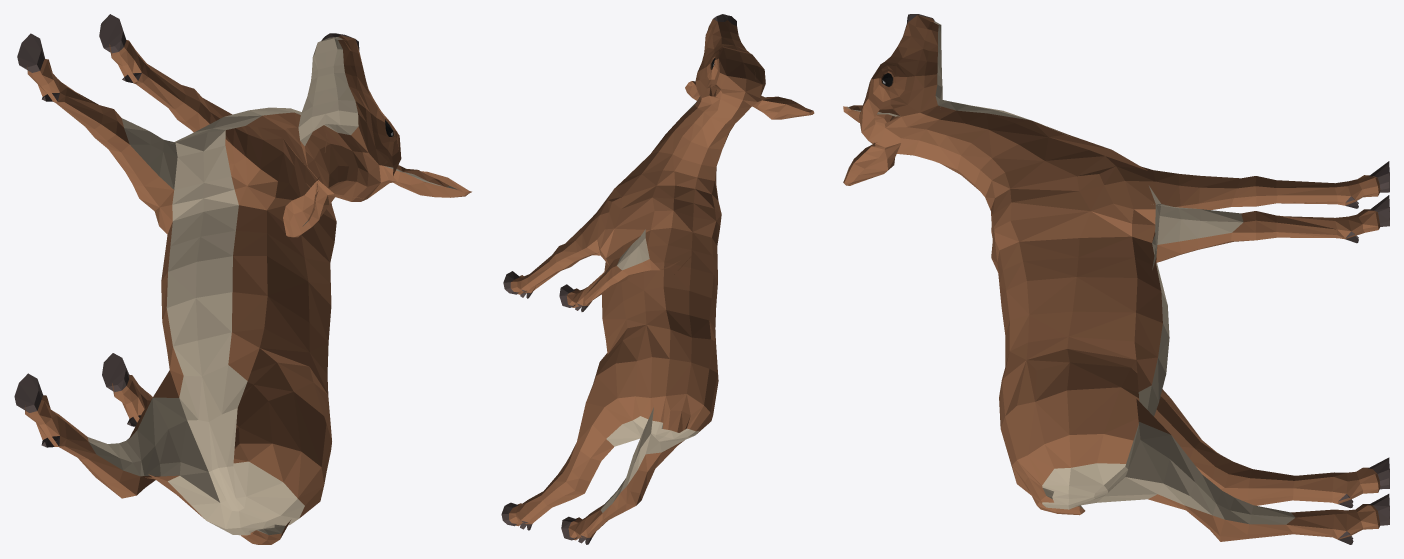
Rendered from deer-idle-0.glb.
The picture shows the model from 3 angles, left to right: view 1: azimuth 30°, elevation 25°; view 2: azimuth 150°, elevation 25°; view 3: azimuth 270°, elevation 25°; orthographic projection. The views are drawn at different scales.
Size of the model in its own units: 0.4811 by 1.45 by 1.41.
